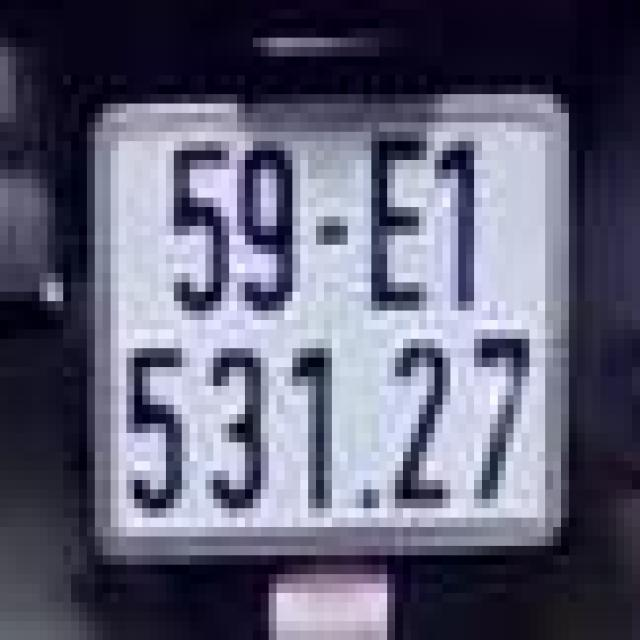1: (427, 132, 498, 310), (288, 334, 344, 522)
2: (383, 320, 462, 518)
3: (206, 334, 276, 522)
5: (110, 329, 198, 527), (162, 132, 233, 320)
7: (466, 330, 537, 508)
9: (241, 137, 304, 316)
E: (356, 127, 434, 325)
